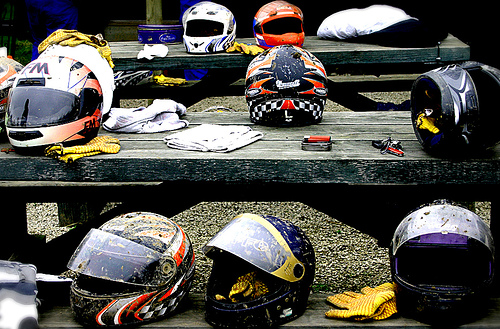helmet: (212, 214, 314, 320), (87, 214, 192, 314), (386, 217, 494, 311), (7, 63, 109, 156), (421, 61, 500, 156), (241, 52, 327, 127), (180, 8, 234, 52), (256, 6, 305, 43)
